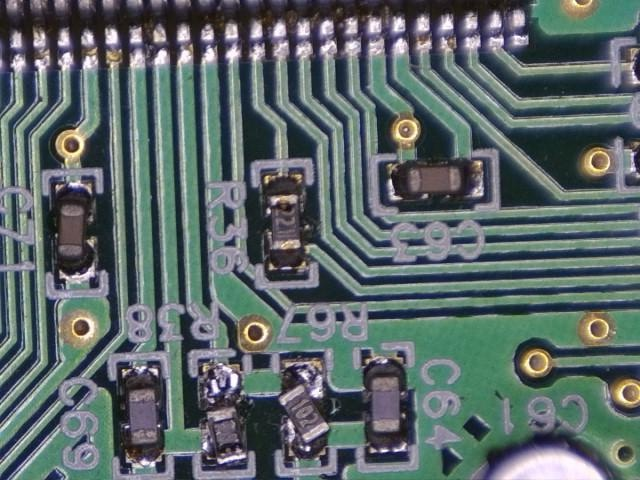pcb_defect: (198, 364, 249, 472), (277, 360, 331, 460), (55, 181, 97, 285)
